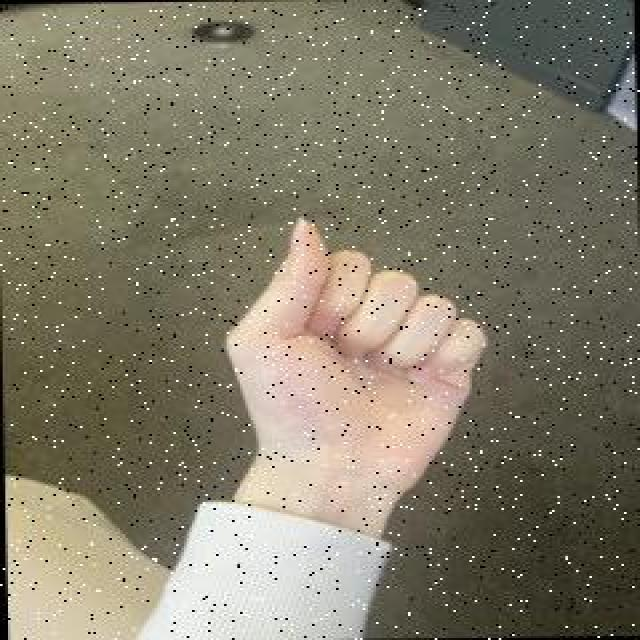A: (216, 201, 499, 491)
